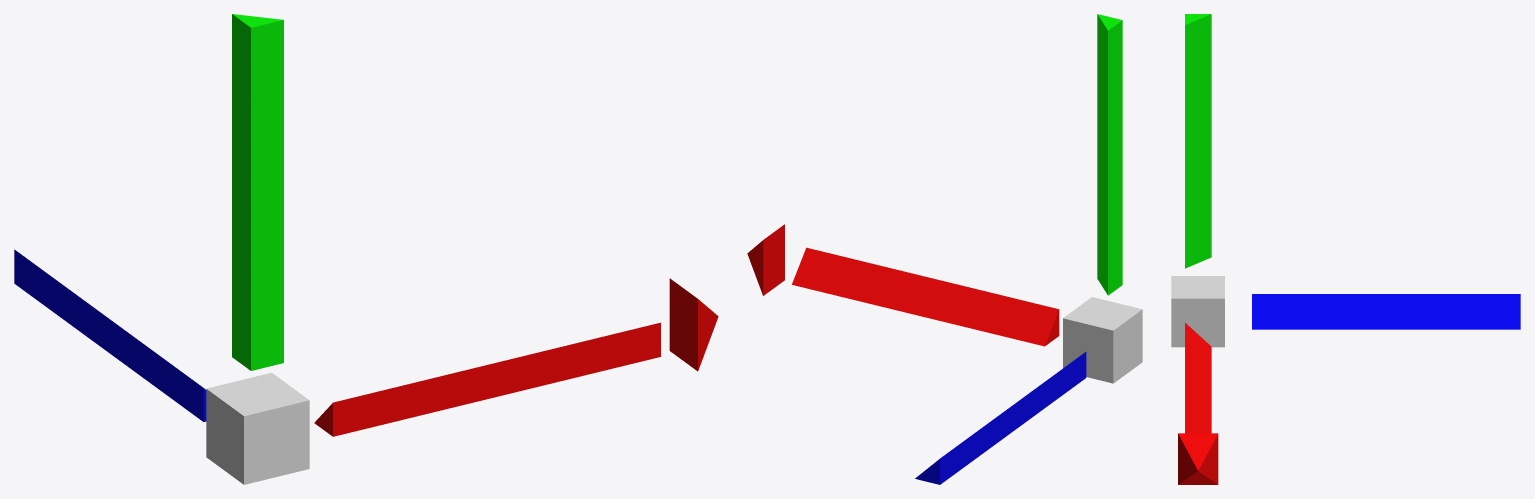
Rendered from Axis.fbx.
3 views of the same model, side by side, from view 1: azimuth 30°, elevation 25°; view 2: azimuth 150°, elevation 25°; view 3: azimuth 270°, elevation 25° (orthographic). The views are drawn at different scales.
Visible parts, largest first — view 1: Axis; view 2: Axis; view 3: Axis.
Part boxes in pixels (x1,y1,x2,y2): Axis: (14,14,718,484); Axis: (747,14,1142,484); Axis: (1171,14,1520,484).
Bounding box in the file's own units: 301 × 261 × 260.
